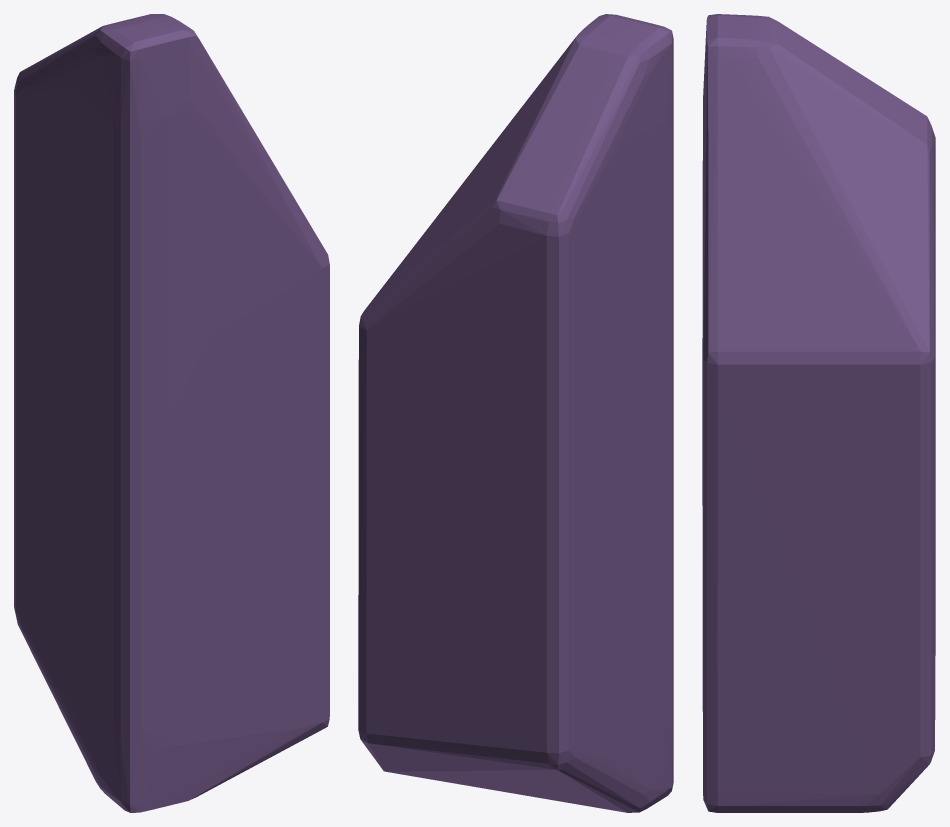
The model's file is left_hip_roll_link_part_1.obj.
The picture shows the model from 3 angles, left to right: view 1: azimuth 30°, elevation 25°; view 2: azimuth 150°, elevation 25°; view 3: azimuth 270°, elevation 25°; orthographic projection. The views are drawn at different scales.
Bounding box in the file's own units: 0.0344 × 0.1211 × 0.0342.
